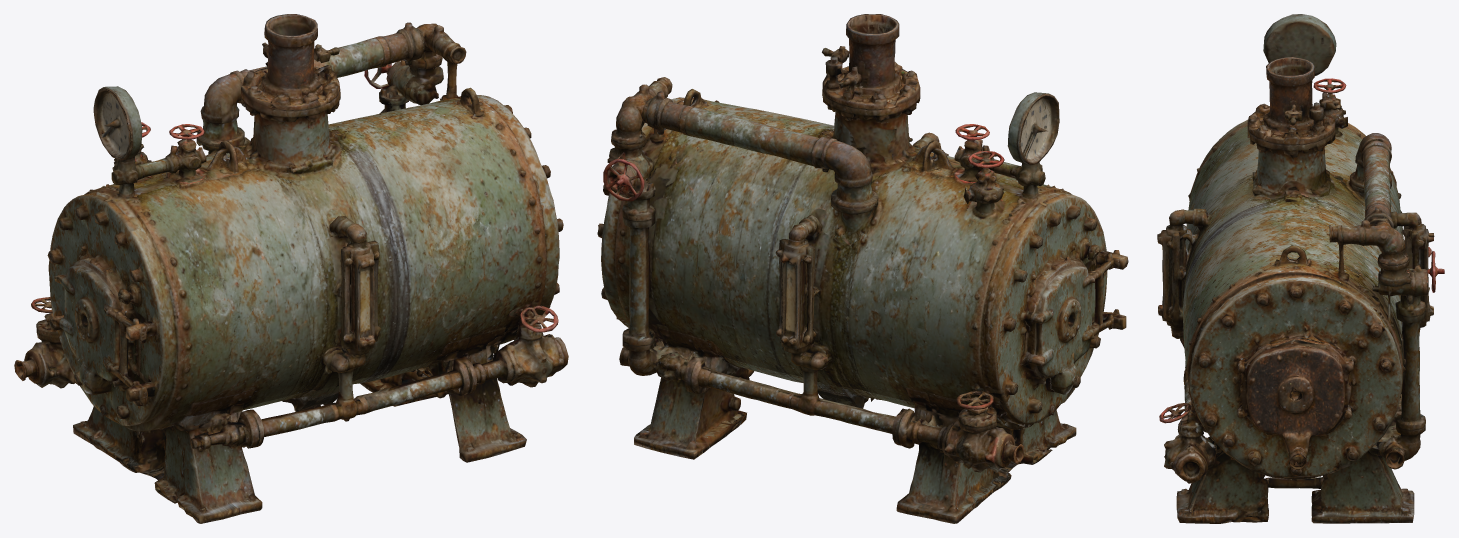
The model's file is Boiler.fbx.
3 renders of one model, left to right at view 1: azimuth 30°, elevation 25°; view 2: azimuth 150°, elevation 25°; view 3: azimuth 270°, elevation 25°, orthographic. The views are drawn at different scales.
Parts seen in each view (by area): view 1: texture_mapping; view 2: texture_mapping; view 3: texture_mapping.
Boxes of the visible parts, <box> form: texture_mapping: <box>14,14,568,523</box>; texture_mapping: <box>597,14,1128,523</box>; texture_mapping: <box>1157,14,1444,523</box>.
Size of the model in its own units: 0.9993 by 0.5888 by 0.8652.
1 material, 1 textured.
